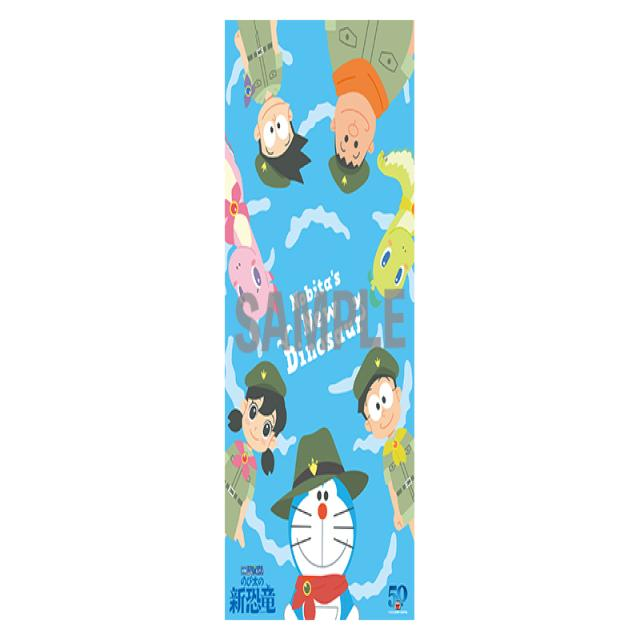doraemon: (277, 458, 365, 602)
jaian: (326, 80, 391, 208)
nobita: (354, 358, 406, 452)
shizuka: (228, 364, 298, 482)
suneo: (249, 82, 321, 212)
